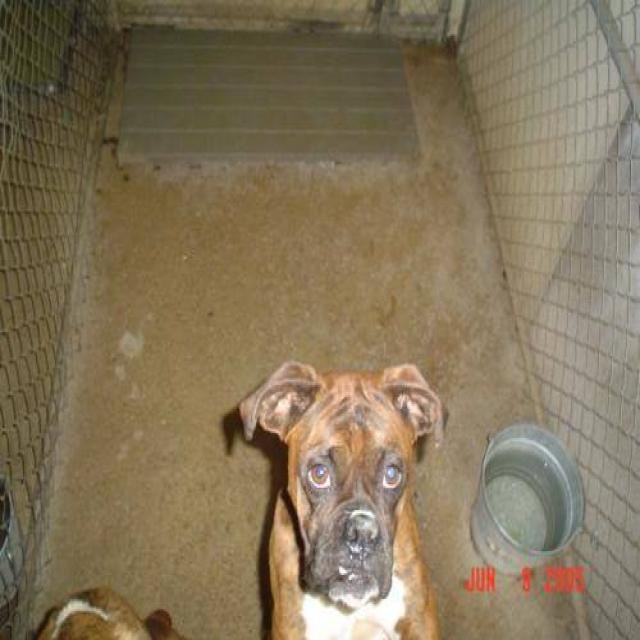sad: (232, 314, 460, 640)
